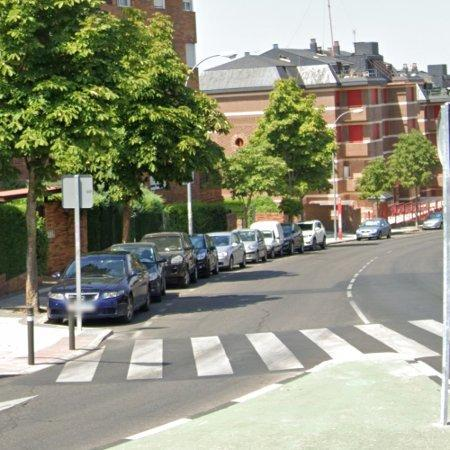crosswalks: (53, 320, 444, 384)
